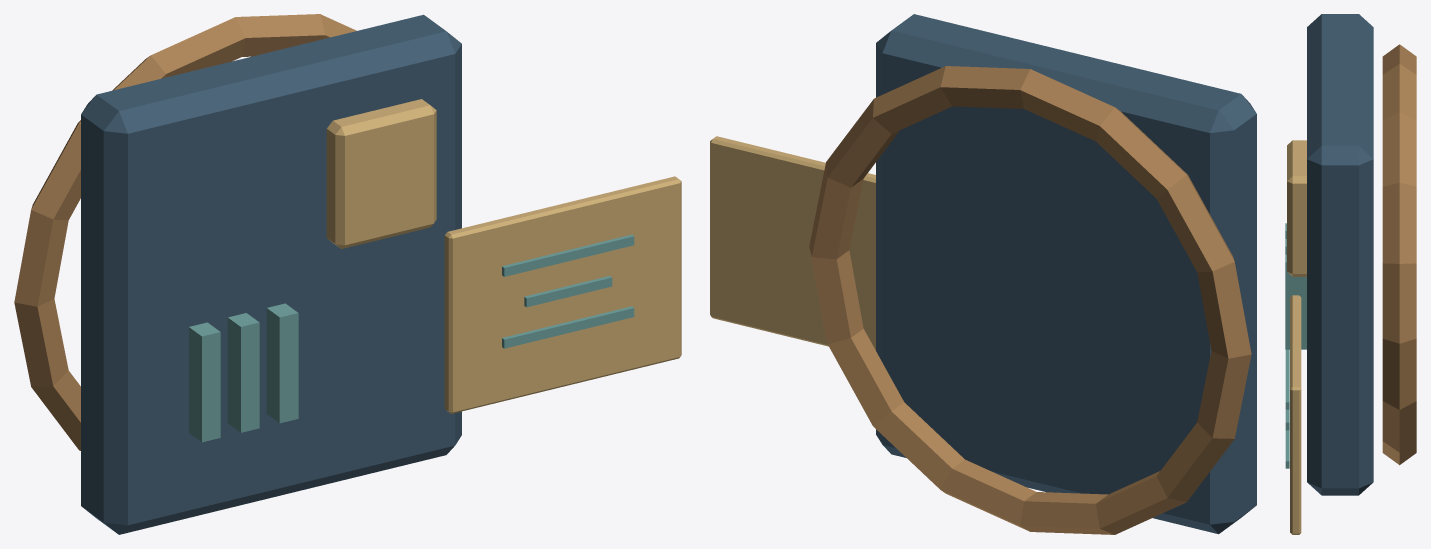
File: quadruped_receptionist.glb
3 views of the same model, side by side, from view 1: azimuth 30°, elevation 25°; view 2: azimuth 150°, elevation 25°; view 3: azimuth 270°, elevation 25° (orthographic). The views are drawn at different scales.
Parts seen in each view (by area): view 1: quadruped_receptionist; view 2: quadruped_receptionist; view 3: quadruped_receptionist.
Boxes of the visible parts, bbox=[...] form: quadruped_receptionist: bbox=[14, 14, 681, 534]; quadruped_receptionist: bbox=[710, 14, 1256, 534]; quadruped_receptionist: bbox=[1285, 14, 1416, 534].
Size of the model in its own units: 0.3868 by 0.284 by 0.0884.
